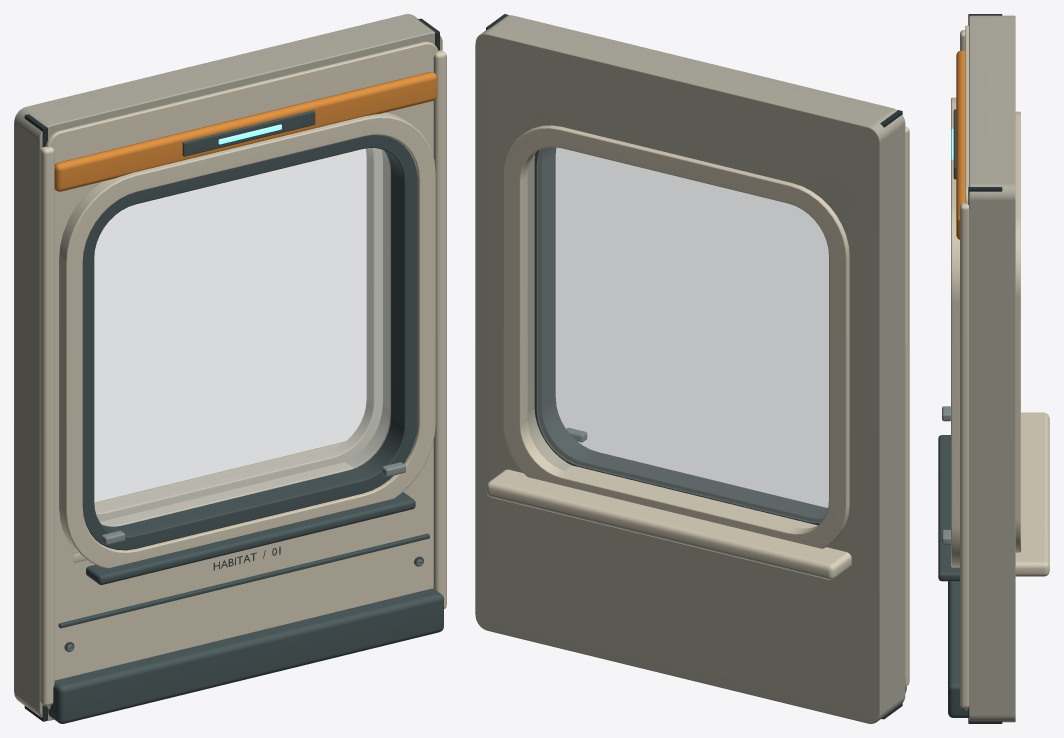
The model's file is wall-window-2m.glb.
The picture shows the model from 3 angles, left to right: view 1: azimuth 30°, elevation 25°; view 2: azimuth 150°, elevation 25°; view 3: azimuth 270°, elevation 25°; orthographic projection. The views are drawn at different scales.
Visible parts, largest first — view 1: wall-window-2m / 01 • warm porcelain paint, wall-window-2m / 07 • smoked teal glass, wall-window-2m / 06 • dark anodized frame, wall-window-2m / 02 • inner shell, wall-window-2m / 03 • ochre enamel; view 2: wall-window-2m / 02 • inner shell, wall-window-2m / 07 • smoked teal glass, wall-window-2m / 01 • warm porcelain paint, wall-window-2m / 06 • dark anodized frame; view 3: wall-window-2m / 02 • inner shell, wall-window-2m / 01 • warm porcelain paint, wall-window-2m / 06 • dark anodized frame, wall-window-2m / 03 • ochre enamel, wall-window-2m / 04 • graphite gasket, wall-window-2m / 05 • brushed titanium.
Part boxes in pixels (bbox=[...]): wall-window-2m / 01 • warm porcelain paint: bbox=[40, 41, 446, 709]; wall-window-2m / 07 • smoked teal glass: bbox=[94, 148, 390, 526]; wall-window-2m / 06 • dark anodized frame: bbox=[48, 110, 443, 723]; wall-window-2m / 02 • inner shell: bbox=[14, 14, 442, 720]; wall-window-2m / 03 • ochre enamel: bbox=[54, 72, 437, 191]; wall-window-2m / 02 • inner shell: bbox=[475, 15, 905, 723]; wall-window-2m / 07 • smoked teal glass: bbox=[537, 147, 828, 522]; wall-window-2m / 01 • warm porcelain paint: bbox=[486, 125, 909, 686]; wall-window-2m / 06 • dark anodized frame: bbox=[534, 147, 906, 691]; wall-window-2m / 02 • inner shell: bbox=[969, 15, 1015, 722]; wall-window-2m / 01 • warm porcelain paint: bbox=[951, 25, 1049, 710]; wall-window-2m / 06 • dark anodized frame: bbox=[938, 109, 968, 717]; wall-window-2m / 03 • ochre enamel: bbox=[956, 50, 965, 239]; wall-window-2m / 04 • graphite gasket: bbox=[968, 14, 1002, 723]; wall-window-2m / 05 • brushed titanium: bbox=[942, 406, 950, 544].
Size of the model in its own units: 1.99 by 2.8 by 0.525.
